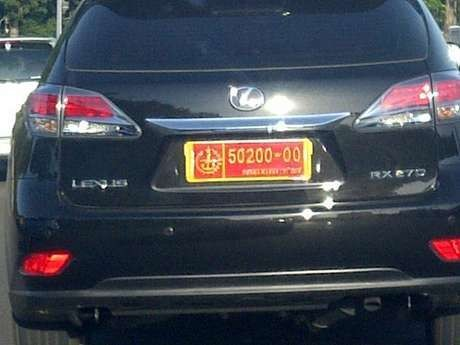plate: (224, 142, 308, 179)
